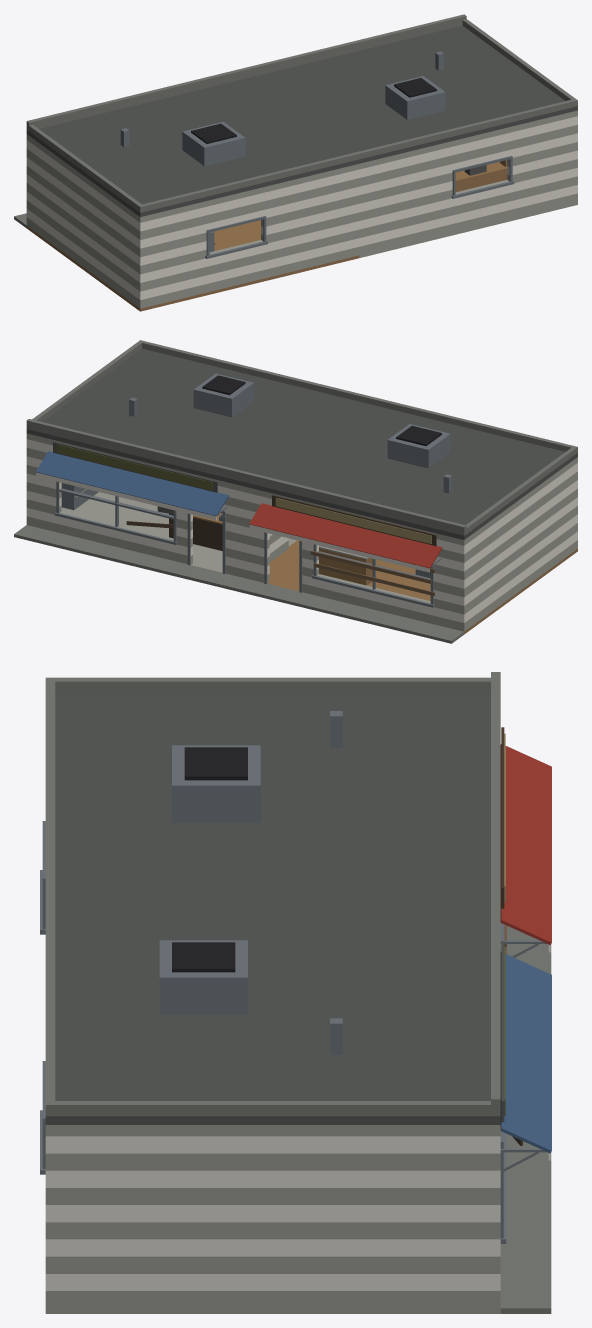
Rendered from shop.glb.
The picture shows the model from 3 angles, top to bottom: view 1: azimuth 30°, elevation 25°; view 2: azimuth 150°, elevation 25°; view 3: azimuth 270°, elevation 25°; orthographic projection. The views are drawn at different scales.
Visible parts, largest first — view 1: shop; view 2: shop; view 3: shop.
Part boxes in pixels (left/top/right/bottom): shop: left=14, top=14, right=577, bottom=311; shop: left=14, top=340, right=577, bottom=643; shop: left=40, top=672, right=551, bottom=1313.
Size of what is drawn, in the model's own units: 16 by 4.16 by 8.1.
2 materials, 2 textured.
